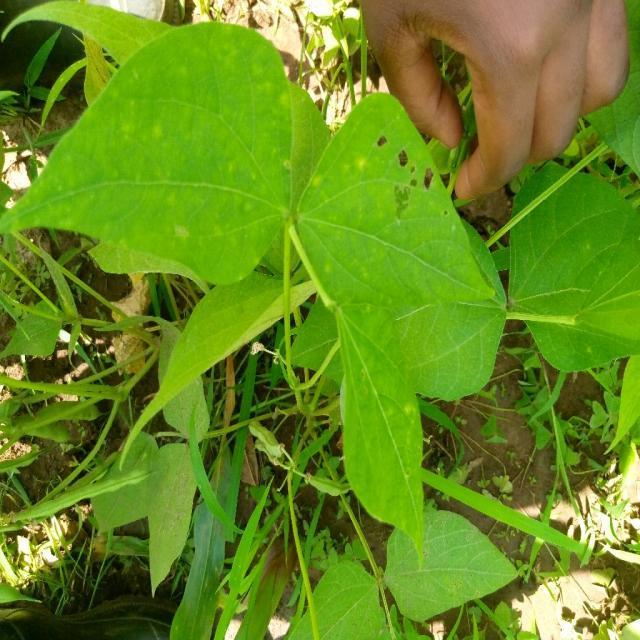hawar: (372, 125, 449, 210)
sehat: (311, 223, 436, 433), (105, 81, 271, 212), (520, 215, 627, 345)
